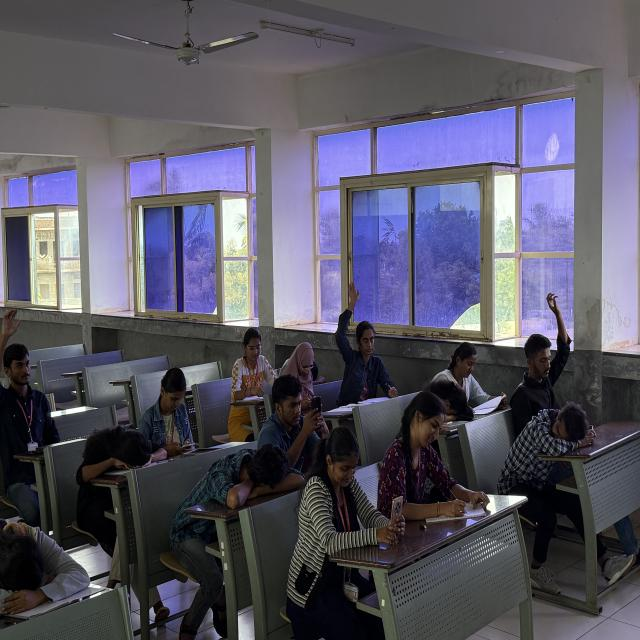Hand Rising: (0, 301, 59, 475), (332, 274, 402, 406), (508, 288, 576, 412)
Reading: (440, 340, 506, 410), (231, 325, 277, 405)
Sleeping: (0, 514, 97, 624), (186, 438, 304, 528), (506, 398, 601, 489), (76, 412, 156, 519), (426, 376, 480, 430)
Using Phone: (305, 424, 409, 571), (252, 368, 330, 474), (137, 363, 202, 456), (286, 341, 324, 409)
Writing: (386, 393, 470, 524)
